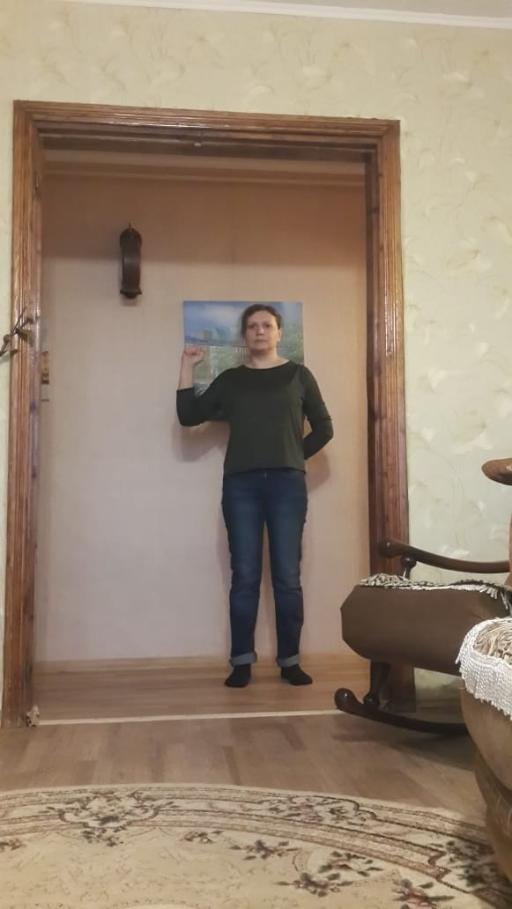fist: (177, 344, 204, 368)
